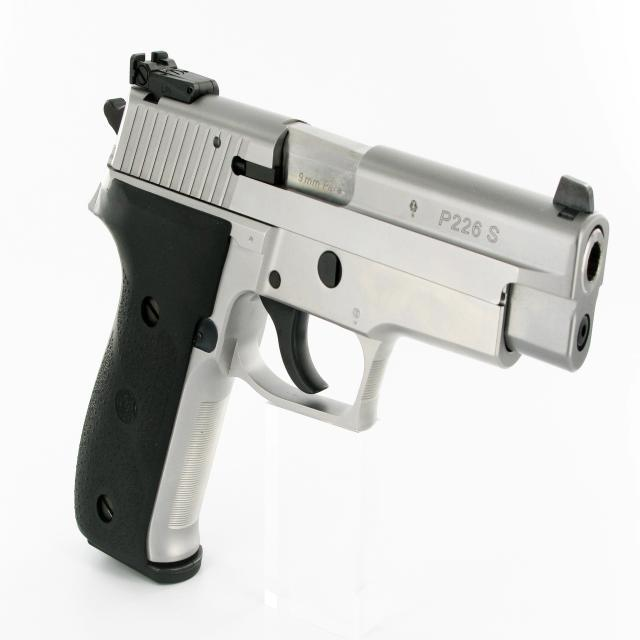Pistol: (35, 17, 640, 640)
